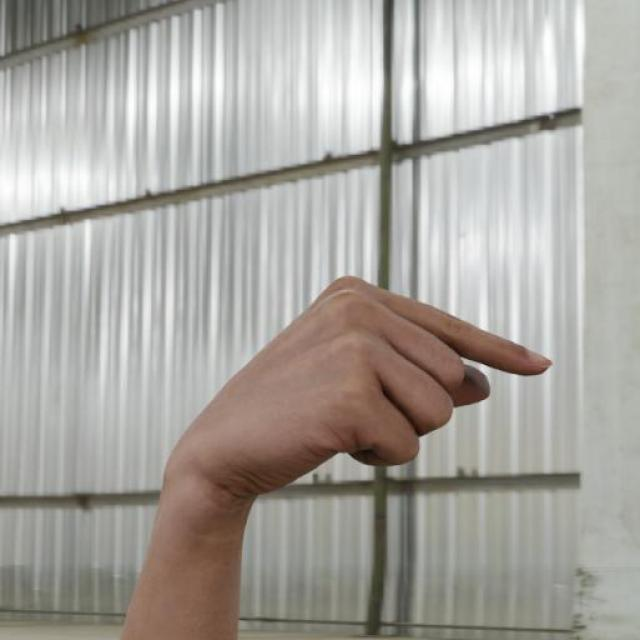G: (166, 269, 556, 505)
